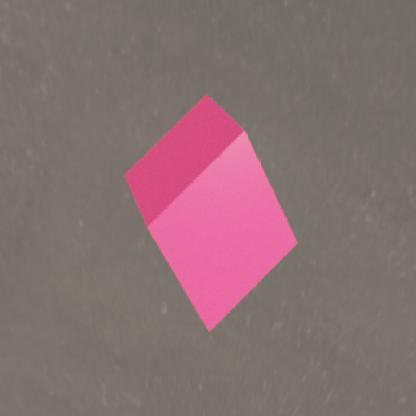cube: (124, 94, 296, 332)
